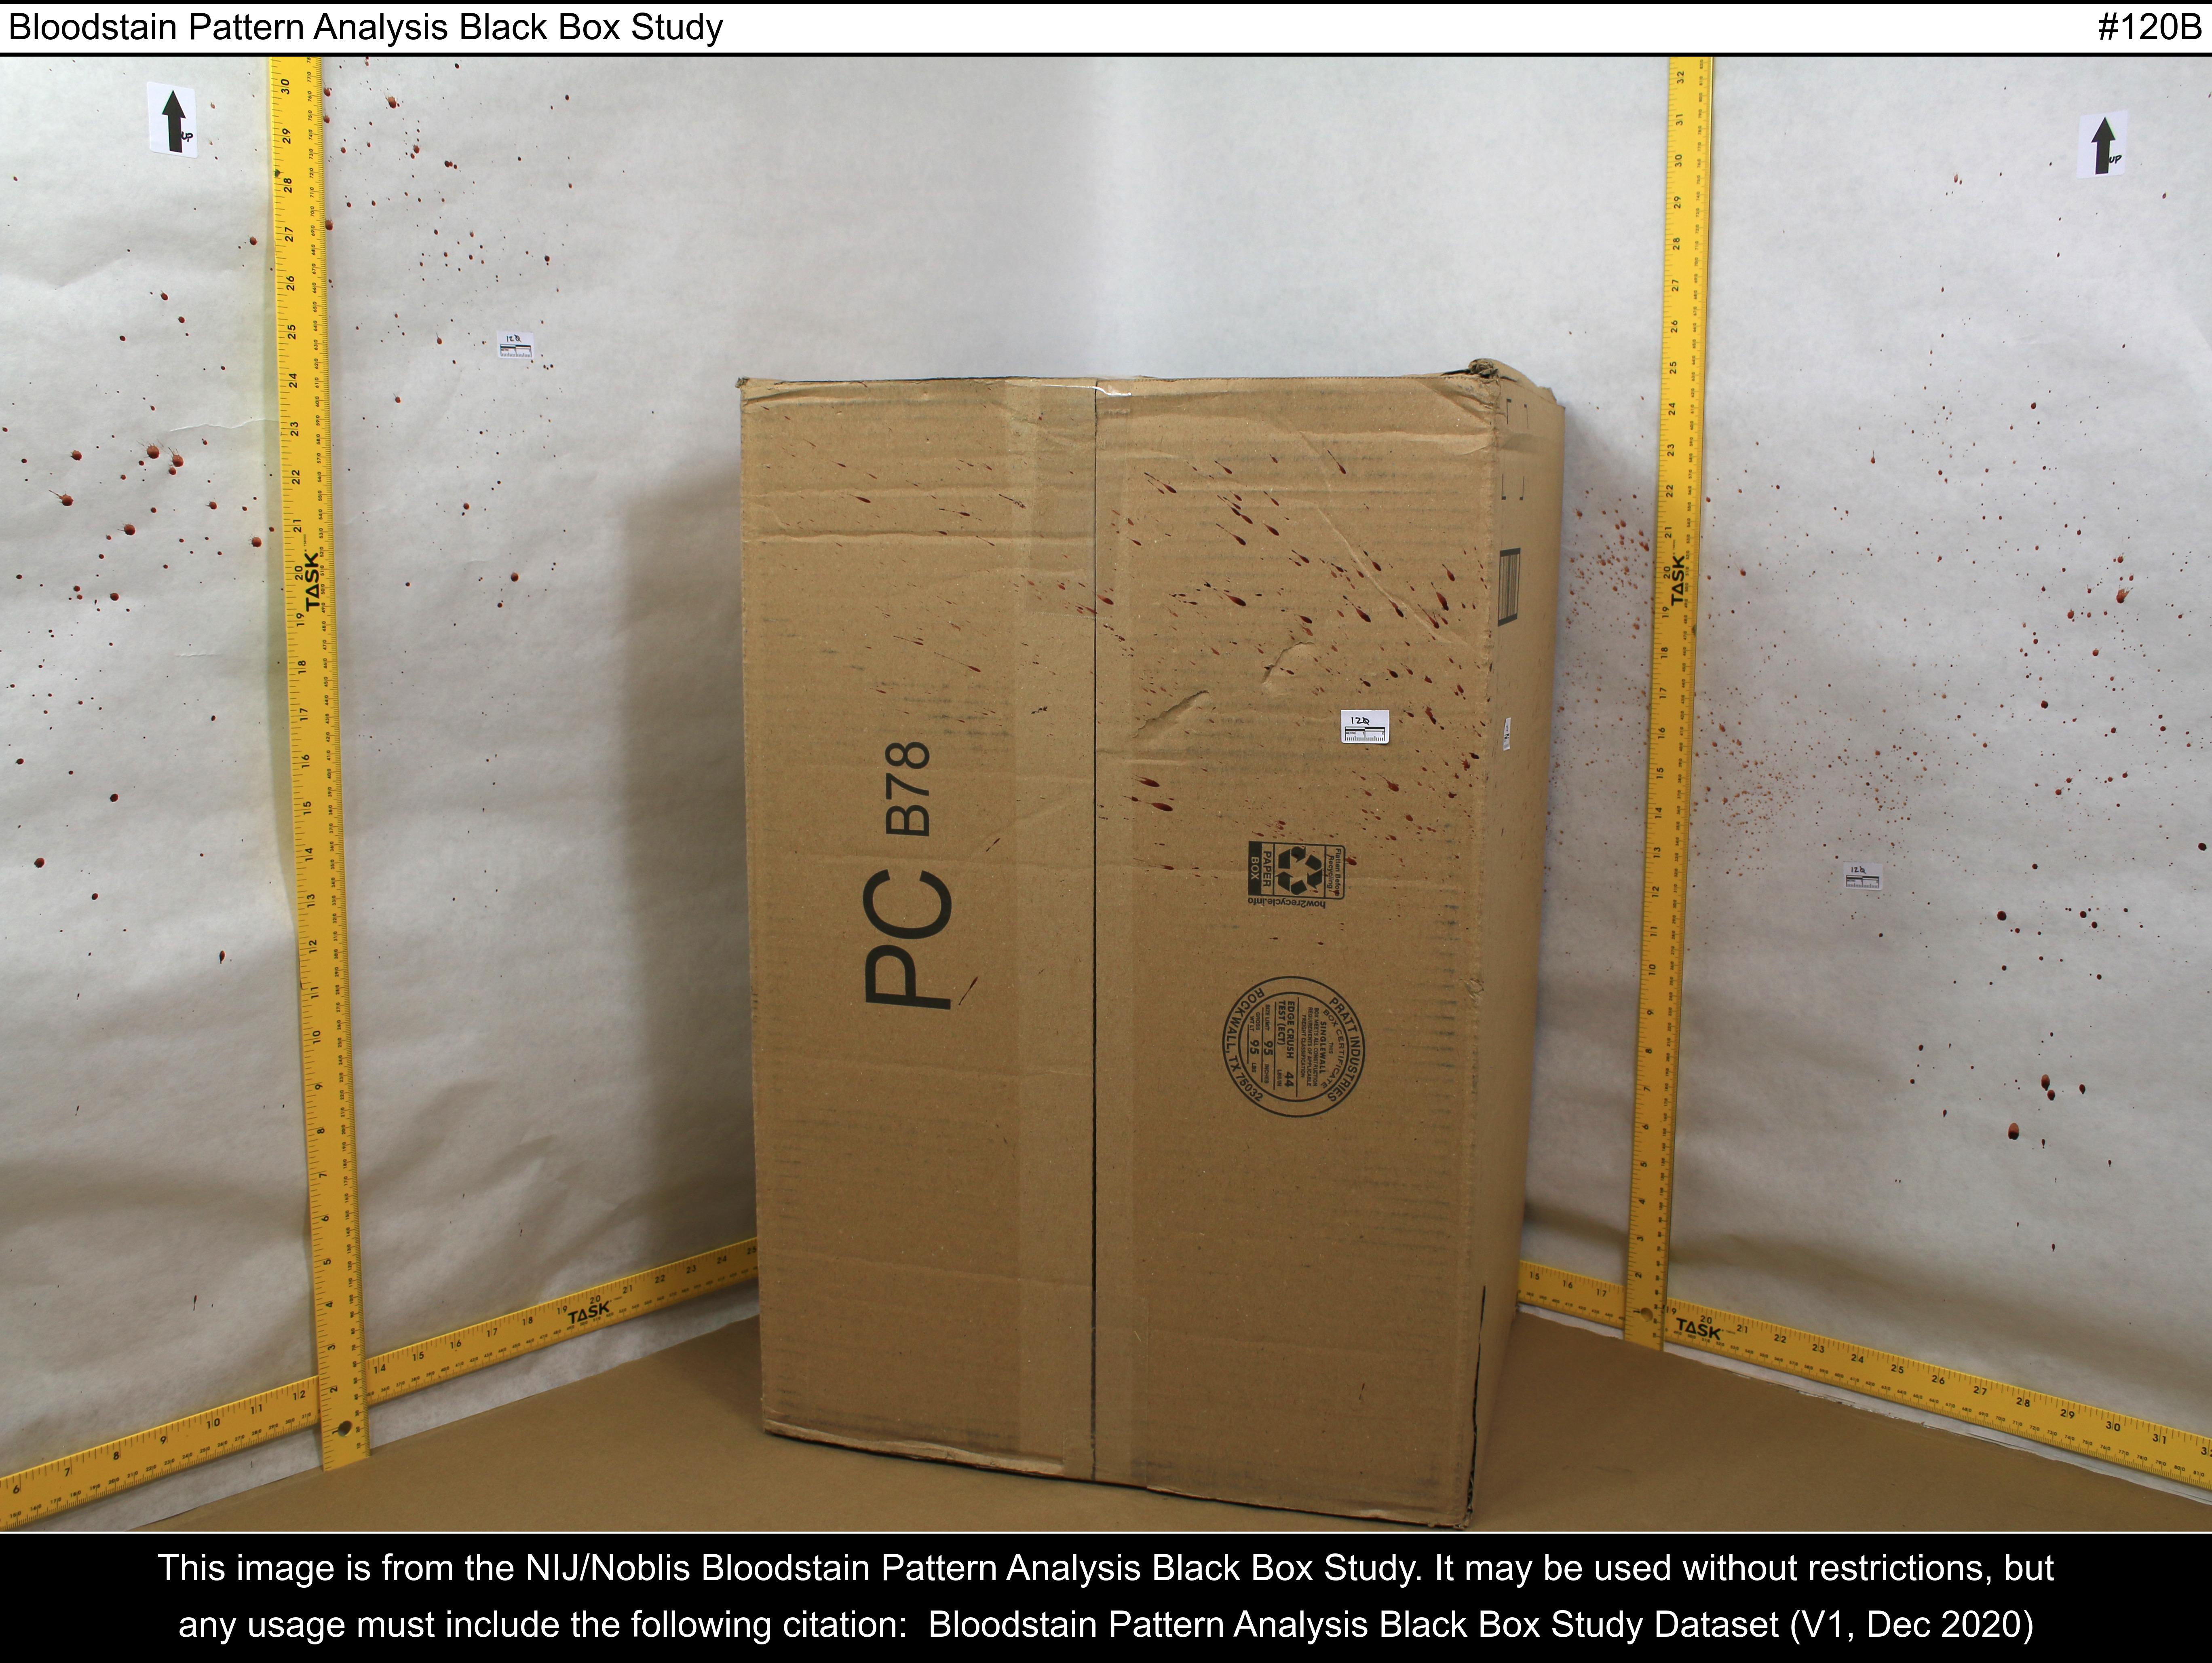Impact: (1210, 489, 1795, 849)
